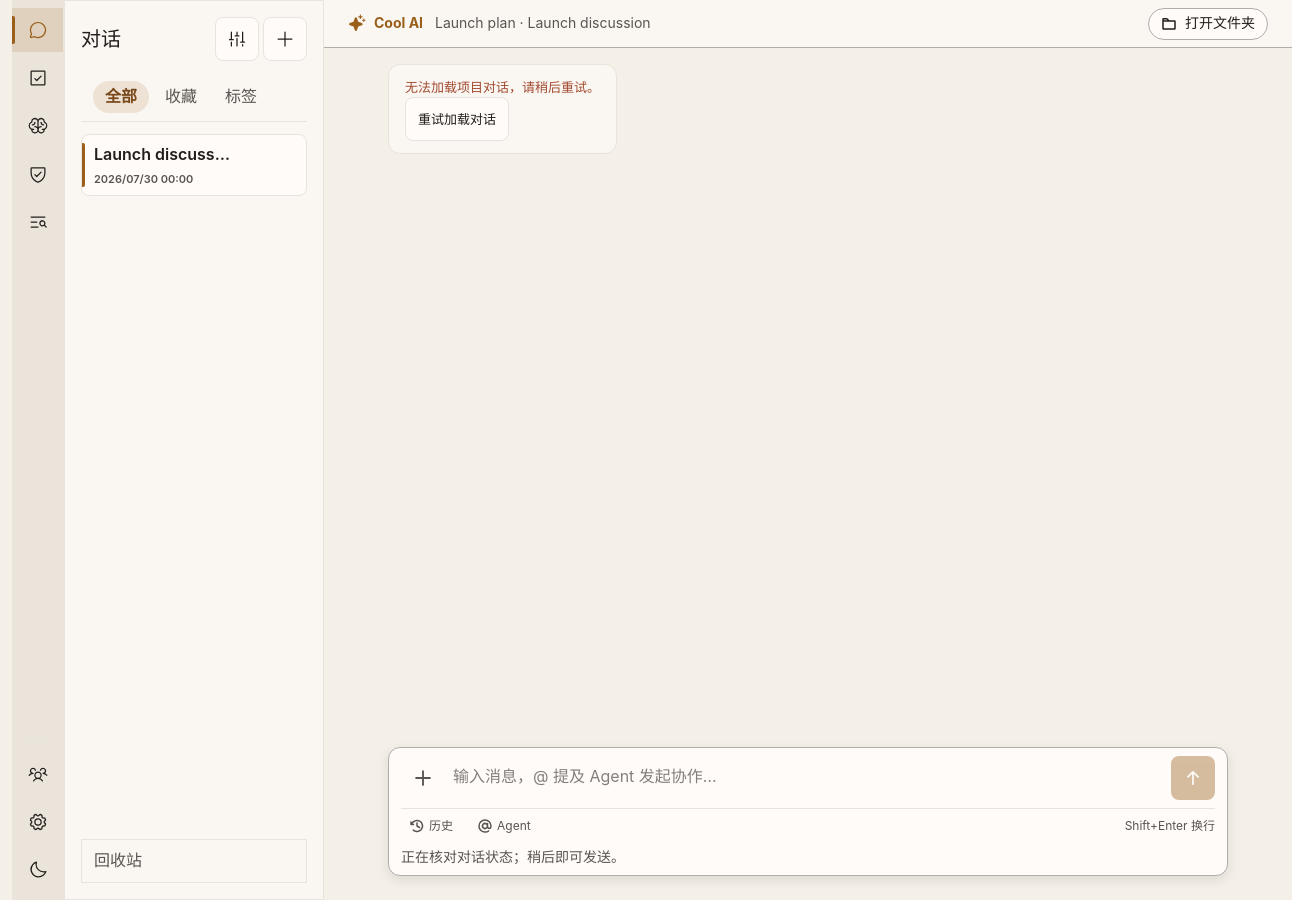
Test case: desktop collaboration cockpit › opens a full-width UCD governance view with back-to-chat chrome
Click the button named "任务": (38, 78) [12, 56, 63, 100]
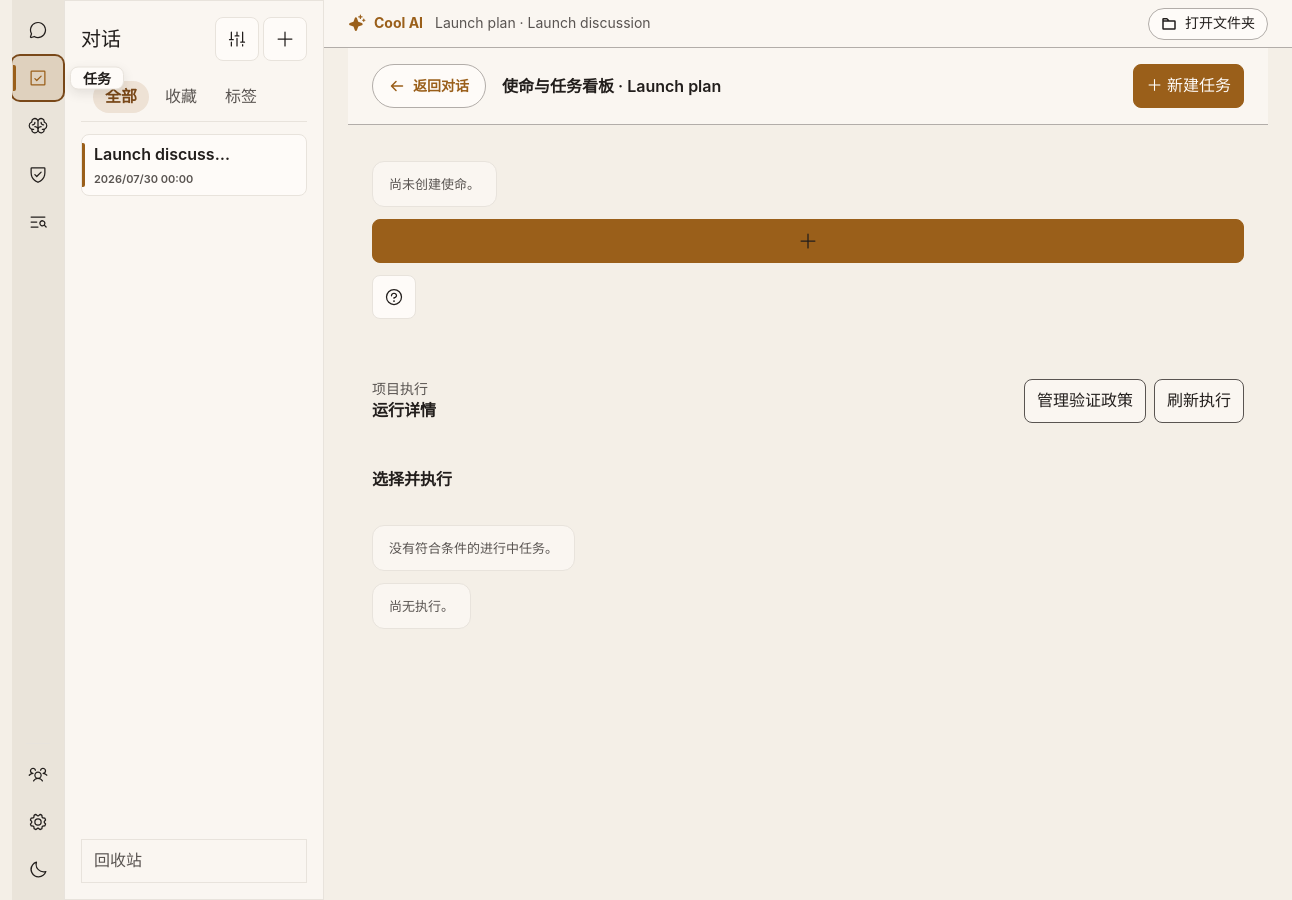
Expected: the heading "使命与任务看板 · Launch plan" is shown, [502, 72, 721, 100]
Expected: the button "＋ 新建任务" is shown, [1134, 64, 1244, 108]
